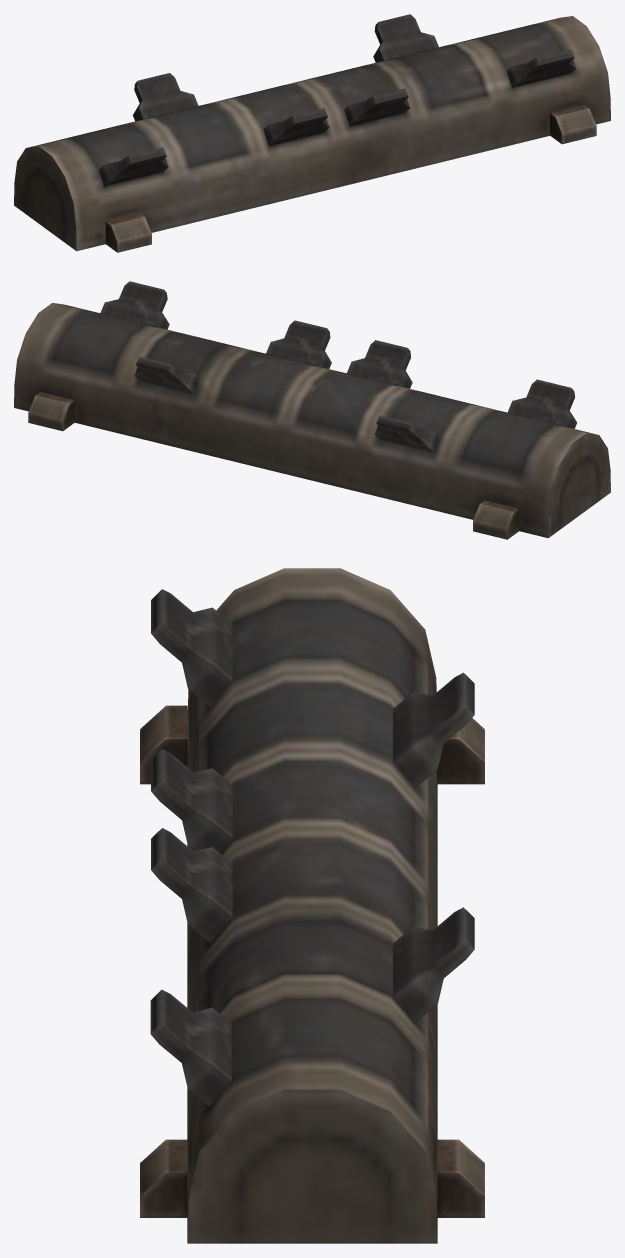
The model's file is computer_parts_switches.dae.
3 views of the same model, one above another, from view 1: azimuth 30°, elevation 25°; view 2: azimuth 150°, elevation 25°; view 3: azimuth 270°, elevation 25° (orthographic). The views are drawn at different scales.
Parts seen in each view (by area): view 1: computer_parts_switches; view 2: computer_parts_switches; view 3: computer_parts_switches.
Part boxes in pixels (x1,y1,x2,y2): computer_parts_switches: (14,14,610,252); computer_parts_switches: (14,281,610,539); computer_parts_switches: (140,568,484,1243).
Bounding box in the file's own units: 0.5589 × 0.0888 × 0.1561.
